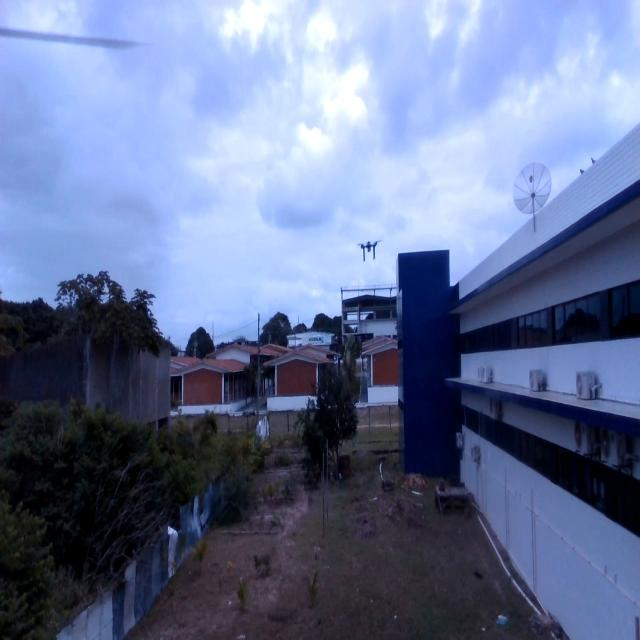-uav-: (352, 232, 388, 270)
